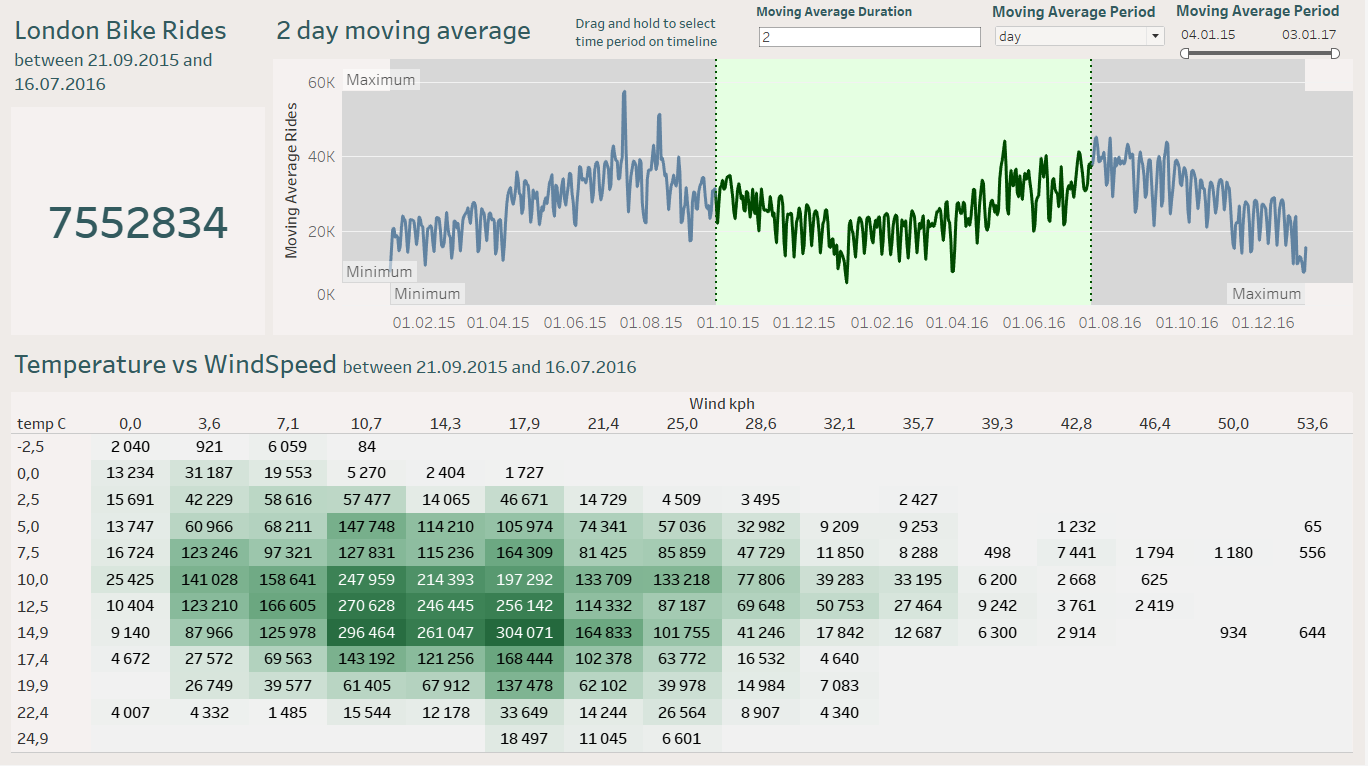

What the dashboard file says about the page in this screenshot:
{"tool":"tableau","page":{"name":"Dashboard 1","canvas":[1366,768],"ordinal":0},"visuals":[{"type":"filter","title":"MovingAverage","param":"[federated.0orew8f0efp5n31039tsg0xrwlqv].[none:Calculation_1276489056188997632:q","box":[1177,3,168,73]},{"type":"parameter","param":"[Parameters].[Parameter 1]","box":[993,4,176,48]},{"type":"parameter","param":"[Parameters].[Parameter 2]","box":[757,5,228,48]},{"type":"worksheet","title":"TotalRides","mark":"Automatic","box":[8,8,262,334]},{"type":"worksheet","title":"MovingAverage","mark":"Automatic","rows":["Calculation1"],"cols":["Calculation_1276489056188997632"],"box":[270,8,1088,334]},{"type":"text","box":[573,14,171,42]},{"type":"worksheet","title":"Heatmap","mark":"Square","rows":["temp_real_C (bin)"],"cols":["wind_speed_kph (bin)"],"box":[8,342,1350,418]}]}

Visuals, with their boxes in screenshot pixels (x1, y1, x2, y2), scaled from the page's 1366x768 canvas onto the 1368x766 screenshot:
"MovingAverage" filter: bbox(1179, 3, 1347, 76)
parameter: bbox(994, 4, 1171, 52)
parameter: bbox(758, 5, 986, 53)
"TotalRides" worksheet: bbox(8, 8, 270, 341)
"MovingAverage" worksheet: bbox(270, 8, 1360, 341)
text: bbox(574, 14, 745, 56)
"Heatmap" worksheet (Square marks): bbox(8, 341, 1360, 758)
